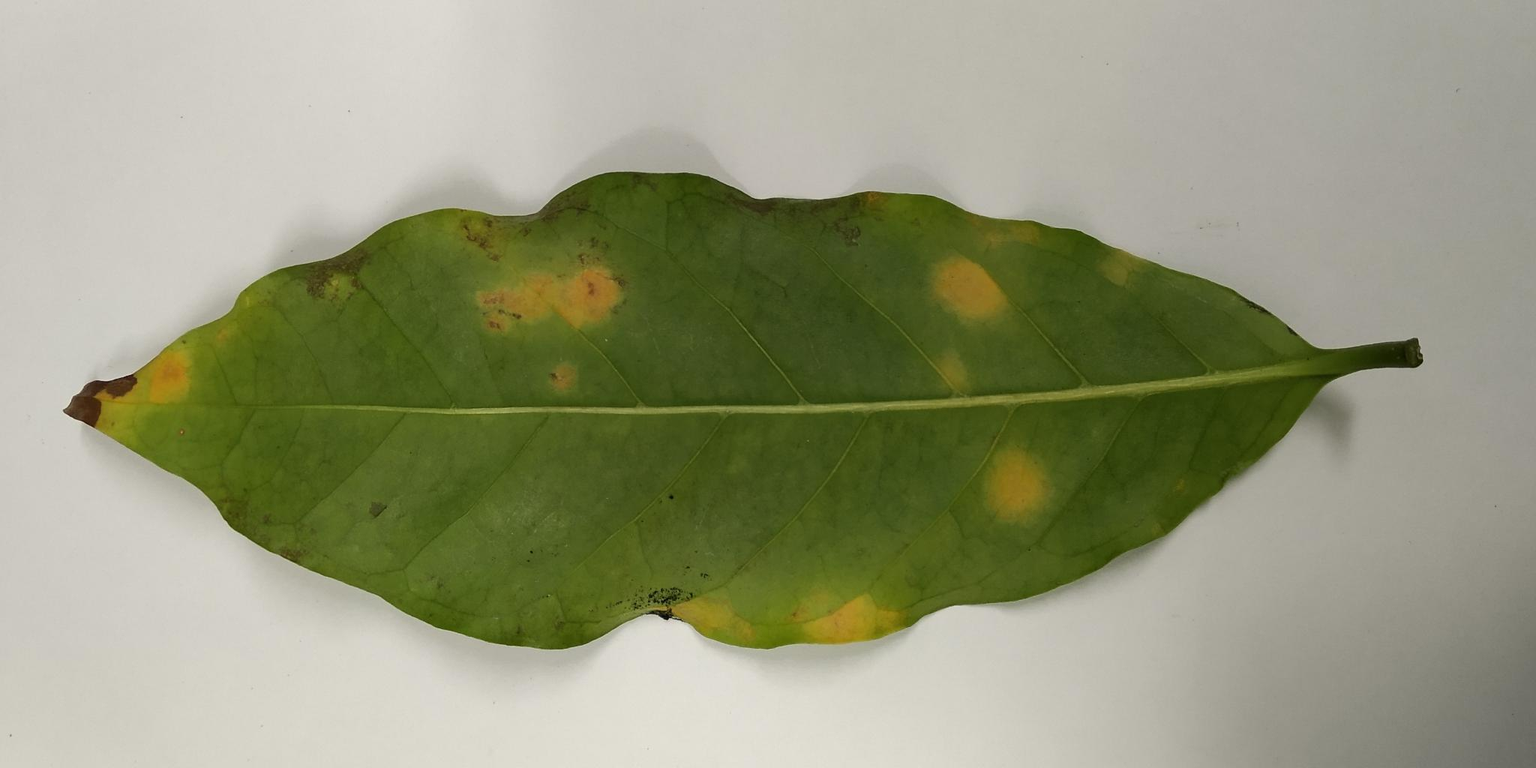Rust: (924, 249, 1015, 329)
